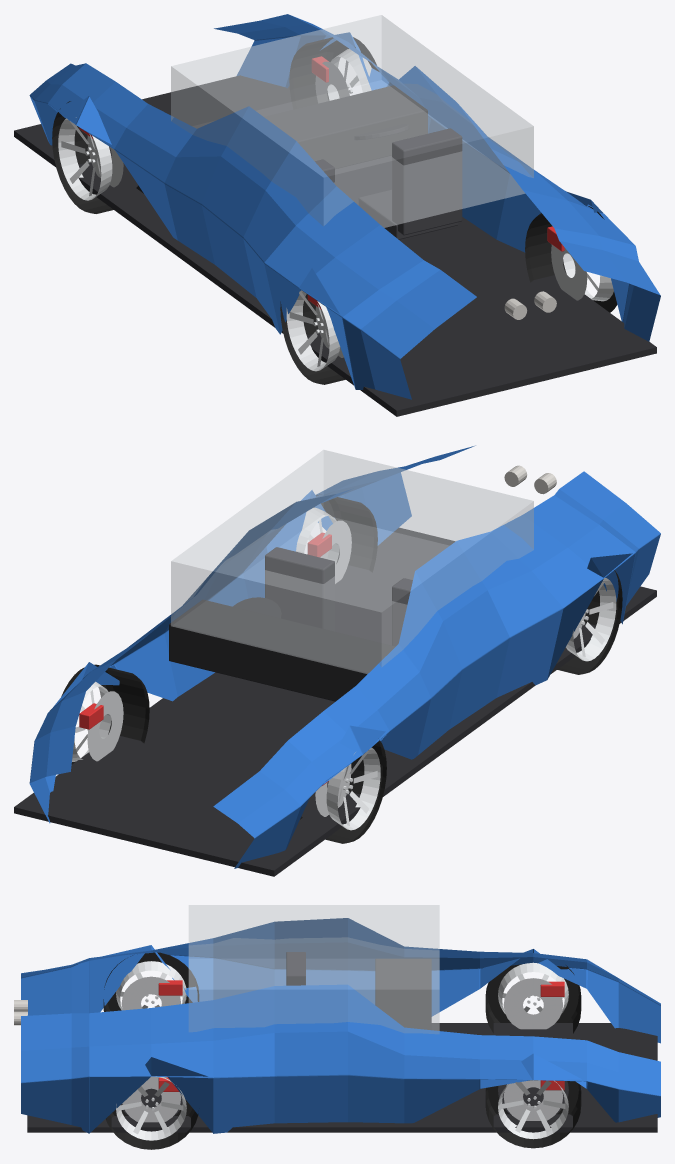
The model's file is Car_Ford_GT_2005_2000s_Complete.glb.
3 renders of one model, top to bottom at view 1: azimuth 30°, elevation 25°; view 2: azimuth 150°, elevation 25°; view 3: azimuth 270°, elevation 25°, orthographic. The views are drawn at different scales.
Parts seen in each view (by area): view 1: BODY_Ford_GT_2005_MainShell, GLASS_Ford_GT, CHASSIS_CarbonTub, INTERIOR_CarbonSeats, INTERIOR_Dashboard, WHEEL_FR_Rim, WHEEL_FL_Tire, WHEEL_RR_Rim, WHEEL_RL_Tire, WHEEL_FR_Tire, WHEEL_RR_Tire, BRAKE_RL_Rotor (+5 smaller); view 2: BODY_Ford_GT_2005_MainShell, GLASS_Ford_GT, CHASSIS_CarbonTub, INTERIOR_Dashboard, INTERIOR_CarbonSeats, WHEEL_FR_Rim, WHEEL_RL_Tire, WHEEL_FL_Tire, WHEEL_RR_Rim, WHEEL_FR_Tire, BRAKE_FL_Rotor, WHEEL_RR_Tire (+6 smaller); view 3: BODY_Ford_GT_2005_MainShell, GLASS_Ford_GT, CHASSIS_CarbonTub, INTERIOR_Dashboard, BRAKE_FR_Rotor, WHEEL_FL_Tire, WHEEL_FR_Tire, WHEEL_FL_Rim, WHEEL_RL_Rim, BRAKE_FL_Rotor, BRAKE_RL_Rotor, BRAKE_RR_Rotor (+6 smaller).
Part boxes in pixels (x1=…): BODY_Ford_GT_2005_MainShell: x1=29, y1=14, x2=660, y2=399; GLASS_Ford_GT: x1=171, y1=15, x2=533, y2=227; CHASSIS_CarbonTub: x1=14, y1=75, x2=656, y2=416; INTERIOR_CarbonSeats: x1=315, y1=128, x2=462, y2=239; INTERIOR_Dashboard: x1=264, y1=85, x2=427, y2=169; WHEEL_FR_Rim: x1=58, y1=117, x2=112, y2=200; WHEEL_FL_Tire: x1=289, y1=37, x2=379, y2=109; WHEEL_RR_Rim: x1=286, y1=290, x2=340, y2=371; WHEEL_RL_Tire: x1=525, y1=205, x2=617, y2=312; WHEEL_FR_Tire: x1=52, y1=101, x2=143, y2=213; WHEEL_RR_Tire: x1=280, y1=294, x2=345, y2=384; BRAKE_RL_Rotor: x1=551, y1=244, x2=587, y2=300; BODY_Ford_GT_2005_MainShell: x1=29, y1=445, x2=660, y2=868; GLASS_Ford_GT: x1=171, y1=450, x2=533, y2=673; CHASSIS_CarbonTub: x1=14, y1=527, x2=656, y2=876; INTERIOR_Dashboard: x1=169, y1=599, x2=395, y2=701; INTERIOR_CarbonSeats: x1=265, y1=547, x2=412, y2=646; WHEEL_FR_Rim: x1=326, y1=747, x2=380, y2=830; WHEEL_RL_Tire: x1=314, y1=494, x2=377, y2=572; WHEEL_FL_Tire: x1=61, y1=664, x2=149, y2=764; WHEEL_RR_Rim: x1=566, y1=578, x2=616, y2=661; WHEEL_FR_Tire: x1=300, y1=740, x2=386, y2=843; BRAKE_FL_Rotor: x1=87, y1=691, x2=123, y2=761; WHEEL_RR_Tire: x1=557, y1=570, x2=622, y2=674; BODY_Ford_GT_2005_MainShell: x1=21, y1=918, x2=660, y2=1133; GLASS_Ford_GT: x1=188, y1=905, x2=439, y2=1033; CHASSIS_CarbonTub: x1=27, y1=1023, x2=657, y2=1132; INTERIOR_Dashboard: x1=375, y1=958, x2=431, y2=1029; BRAKE_FR_Rotor: x1=503, y1=978, x2=563, y2=1029; WHEEL_FL_Tire: x1=485, y1=1081, x2=581, y2=1148; WHEEL_FR_Tire: x1=485, y1=964, x2=581, y2=1033; WHEEL_FL_Rim: x1=498, y1=1080, x2=568, y2=1139; WHEEL_RL_Rim: x1=116, y1=1076, x2=186, y2=1140; BRAKE_FL_Rotor: x1=503, y1=1080, x2=563, y2=1120; BRAKE_RL_Rotor: x1=122, y1=1076, x2=181, y2=1122; BRAKE_RR_Rotor: x1=121, y1=976, x2=181, y2=1010.
Size of the model in its own units: 2.06 by 1.15 by 4.59.
